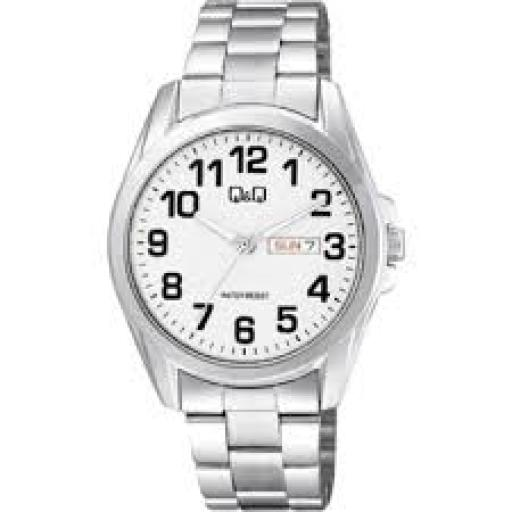KolSaati: (64, 0, 412, 507)
